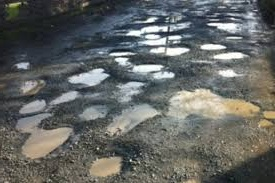pothole: (163, 89, 271, 127), (3, 111, 72, 163), (105, 101, 161, 138), (81, 151, 126, 178), (126, 19, 192, 36), (64, 67, 111, 88), (112, 79, 148, 102), (14, 73, 45, 96), (14, 94, 45, 115), (147, 42, 195, 55), (76, 102, 112, 119), (137, 32, 181, 45), (47, 90, 78, 107), (203, 19, 242, 32), (9, 58, 31, 77), (104, 47, 138, 58), (209, 50, 250, 59), (146, 70, 177, 81), (130, 63, 167, 72), (161, 9, 184, 22), (129, 13, 160, 22), (201, 40, 229, 49), (225, 10, 259, 17), (111, 57, 134, 66), (215, 68, 240, 75), (203, 11, 220, 20), (112, 28, 129, 37), (224, 34, 244, 39)
